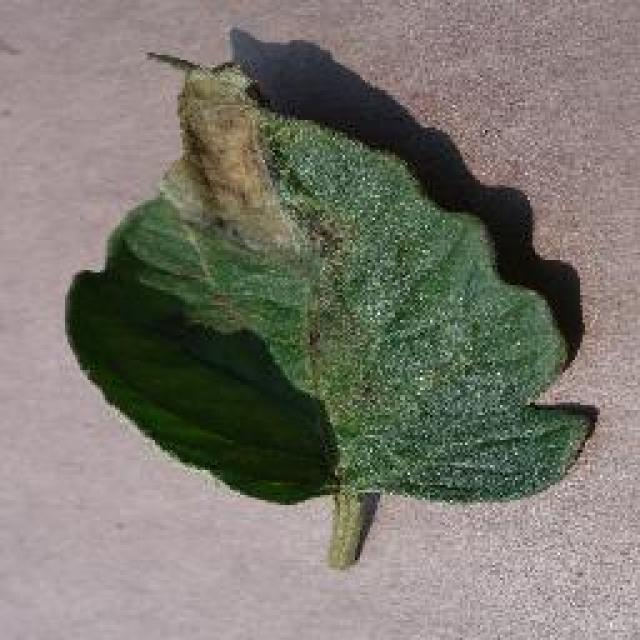leaf blight: (71, 60, 604, 566)
